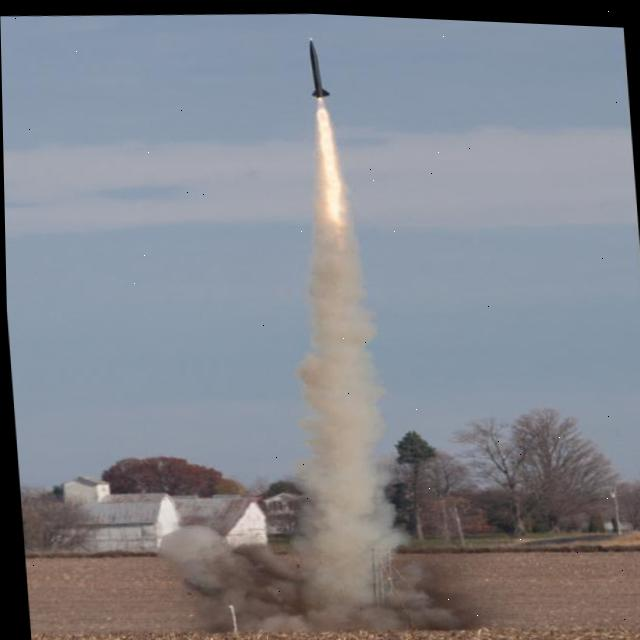missile: (305, 35, 325, 97)
